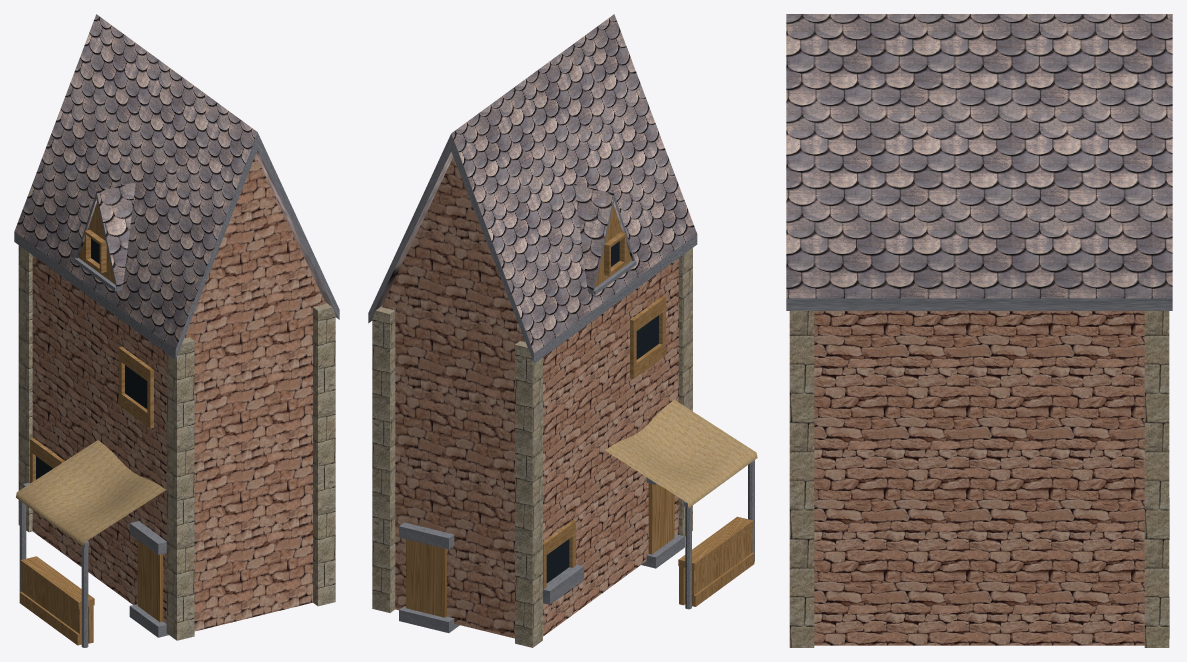
File: map1_2ie.obj
3 views of the same model, side by side, from view 1: azimuth 30°, elevation 25°; view 2: azimuth 150°, elevation 25°; view 3: azimuth 270°, elevation 25° (orthographic). The views are drawn at different scales.
Visible parts, largest first — view 1: pCube1, pCube6, pCube2, pPlane2, pCube3, pCube5, pCube7, pCube15, group1 pCube18, pCube22, pCube20, pCube13 (+7 smaller); view 2: pCube1, pCube6, pCube5, pPlane2, pCube4, pCube12, pCube7, pCube2, pCube15, group1 pCube18, pCube22, pCube13 (+9 smaller); view 3: pCube6, pCube1, pCube3, pCube4.
Part boxes in pixels (left/top/right/bottom): pCube1: left=32, top=155, right=325, bottom=631; pCube6: left=14, top=14, right=339, bottom=359; pCube2: left=166, top=337, right=194, bottom=640; pPlane2: left=16, top=440, right=165, bottom=547; pCube3: left=313, top=302, right=335, bottom=606; pCube5: left=18, top=245, right=32, bottom=532; pCube7: left=76, top=182, right=135, bottom=291; pCube15: left=118, top=346, right=153, bottom=428; group1 pCube18: left=137, top=540, right=163, bottom=622; pCube22: left=21, top=567, right=81, bottom=633; pCube20: left=20, top=556, right=94, bottom=608; pCube13: left=29, top=438, right=64, bottom=483; pCube1: left=382, top=157, right=678, bottom=638; pCube6: left=368, top=14, right=697, bottom=363; pCube5: left=515, top=341, right=542, bottom=647; pPlane2: left=605, top=399, right=757, bottom=507; pCube4: left=372, top=305, right=395, bottom=612; pCube12: left=406, top=539, right=446, bottom=617; pCube7: left=574, top=184, right=634, bottom=294; pCube2: left=678, top=248, right=692, bottom=536; pCube15: left=630, top=296, right=665, bottom=378; group1 pCube18: left=648, top=483, right=674, bottom=554; pCube22: left=692, top=528, right=752, bottom=595; pCube13: left=543, top=520, right=575, bottom=589; pCube6: left=786, top=14, right=1172, bottom=310; pCube1: left=814, top=311, right=1144, bottom=645; pCube3: left=789, top=311, right=814, bottom=647; pCube4: left=1144, top=311, right=1169, bottom=647.
Bounding box in the file's own units: 8.36 × 16.43 × 9.69.
Materials: 7 (7 with a texture image).
